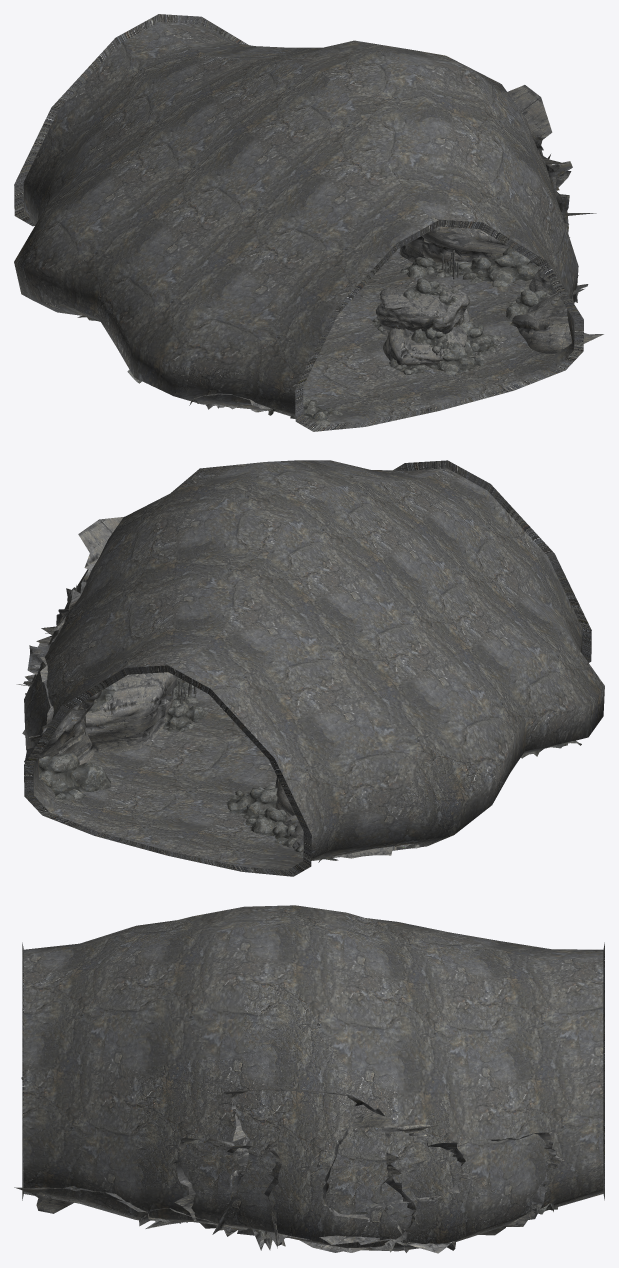
The model's file is cavestraight01.dae.
The picture shows the model from 3 angles, top to bottom: view 1: azimuth 30°, elevation 25°; view 2: azimuth 150°, elevation 25°; view 3: azimuth 270°, elevation 25°; orthographic projection. The views are drawn at different scales.
Parts seen in each view (by area): view 1: CaveWall, StriatedRock, RockPile; view 2: CaveWall, StriatedRock, RockPile; view 3: CaveWall, StriatedRock.
Part boxes in pixels (left/top/right/bottom): CaveWall: left=14, top=14, right=583, bottom=431; StriatedRock: left=189, top=85, right=603, bottom=413; RockPile: left=77, top=247, right=550, bottom=427; CaveWall: left=24, top=460, right=604, bottom=876; StriatedRock: left=16, top=516, right=419, bottom=860; RockPile: left=39, top=676, right=581, bottom=862; CaveWall: left=22, top=905, right=604, bottom=1251; StriatedRock: left=14, top=1088, right=564, bottom=1253.
Size of the model in its own units: 2663 by 2549 by 1309.
3 materials, 3 textured.
